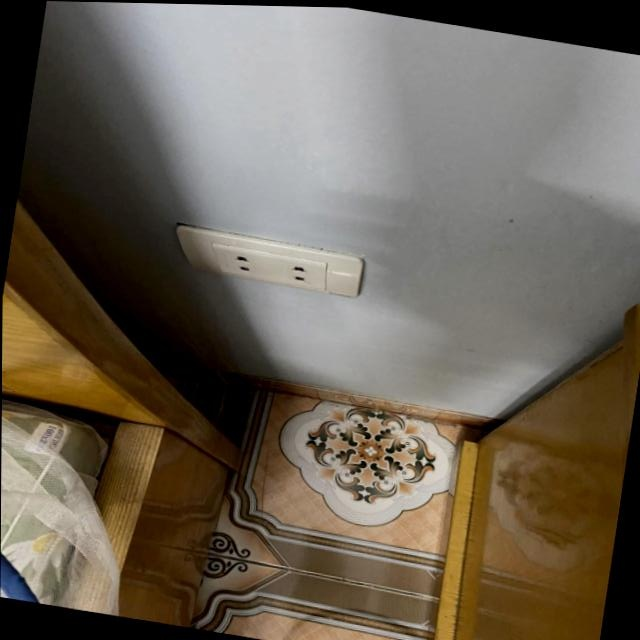outlet: (169, 224, 367, 300)
